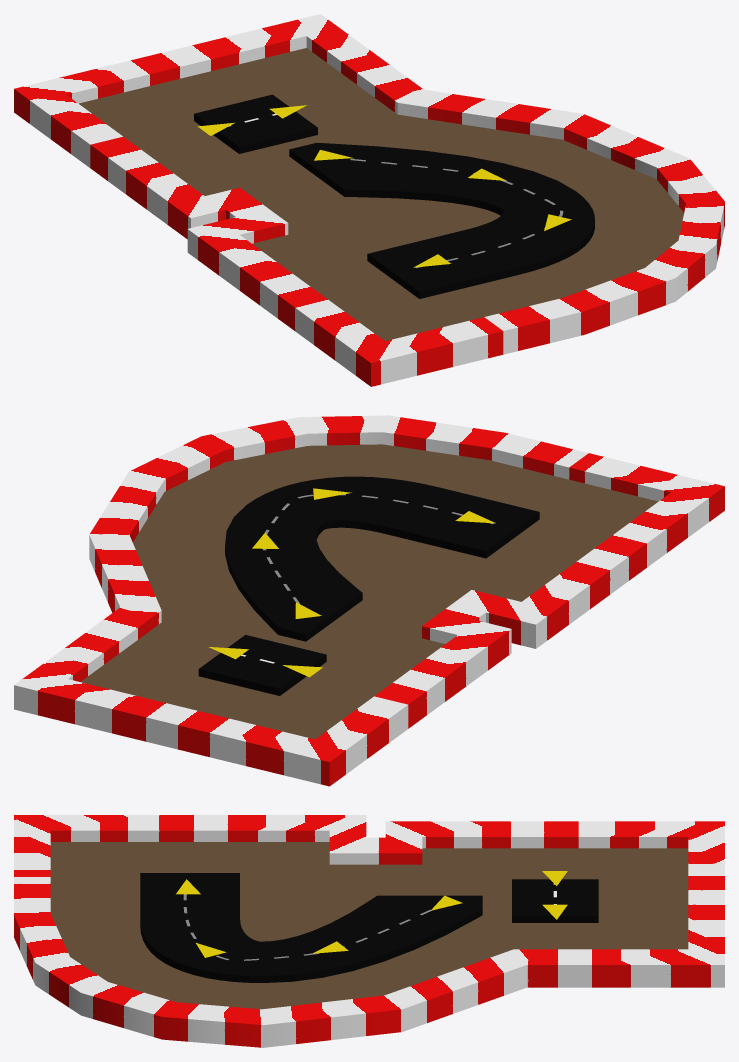
The model's file is thal.FBX.
3 views of the same model, one above another, from view 1: azimuth 30°, elevation 25°; view 2: azimuth 150°, elevation 25°; view 3: azimuth 270°, elevation 25° (orthographic). The views are drawn at different scales.
Visible parts, largest first — view 1: Thain_coll, Thain_floor, Thain; view 2: Thain_floor, Thain_coll, Thain; view 3: Thain_floor, Thain_coll, Thain.
Boxes of the visible parts, box(x1,y1,x2,y2) form: Thain_coll: box(14, 14, 724, 386); Thain_floor: box(79, 48, 683, 340); Thain: box(194, 94, 594, 298); Thain_floor: box(80, 444, 658, 739); Thain_coll: box(14, 415, 724, 786); Thain: box(198, 476, 539, 695); Thain_floor: box(50, 842, 688, 1009); Thain_coll: box(14, 815, 724, 1047); Thain: box(140, 873, 598, 982).
Bounding box in the file's own units: 650 × 32.77 × 930.
